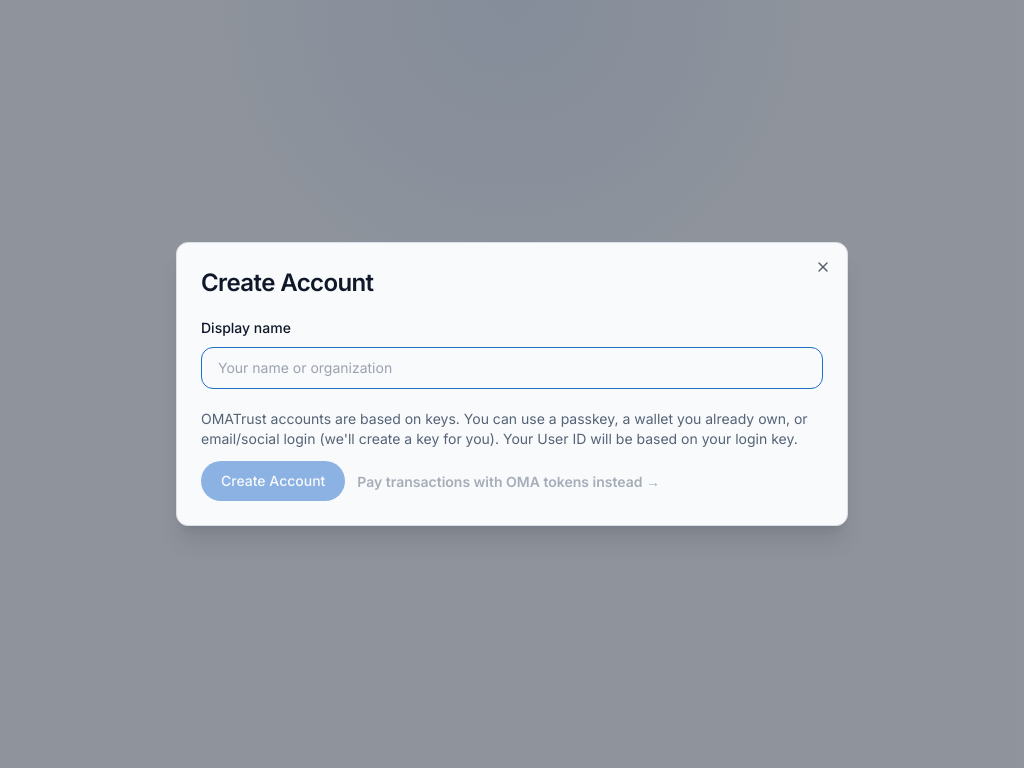
Test: AuthEntryDialog › keeps Create Account disabled until a display name is entered
The image size is (1024, 768).
Expected: the button "Create Account" is disabled, [201,461,345,501]
Type "Jane" into the field labelled "Display name".
click(512, 368); type("Jane")  # box [201,347,823,389]
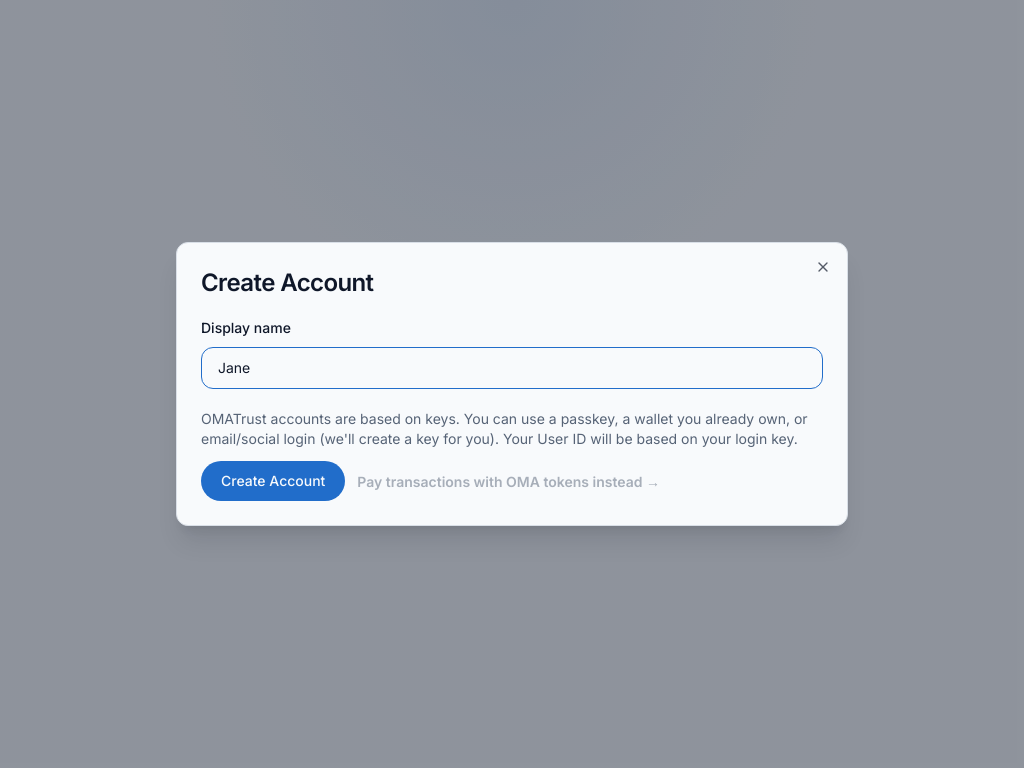
Expected: the button "Create Account" is enabled, [201,461,345,501]
